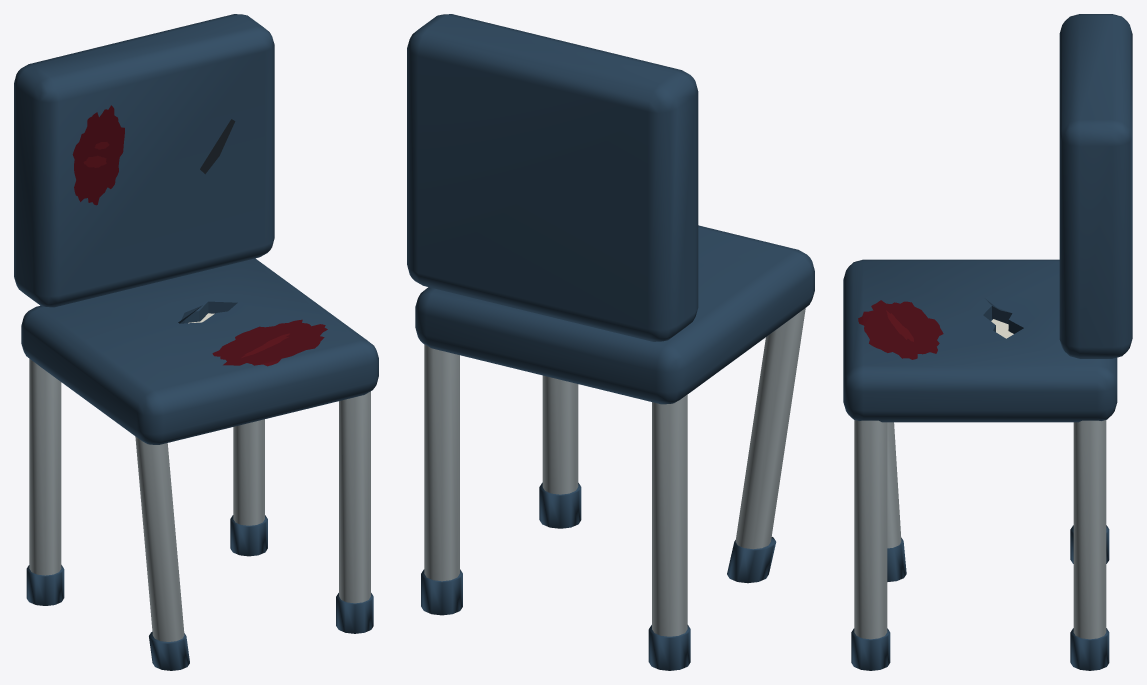
Rendered from visitor_chair.glb.
3 views of the same model, side by side, from view 1: azimuth 30°, elevation 25°; view 2: azimuth 150°, elevation 25°; view 3: azimuth 270°, elevation 25° (orthographic). The views are drawn at different scales.
Parts seen in each view (by area): view 1: visitor_chair_Outbreak_Static; view 2: visitor_chair_Outbreak_Static; view 3: visitor_chair_Outbreak_Static.
Part boxes in pixels (left/top/right/bottom): visitor_chair_Outbreak_Static: left=14, top=14, right=378, bottom=670; visitor_chair_Outbreak_Static: left=407, top=14, right=814, bottom=670; visitor_chair_Outbreak_Static: left=843, top=14, right=1132, bottom=670.
Bounding box in the file's own units: 0.47 × 0.985 × 0.475.
